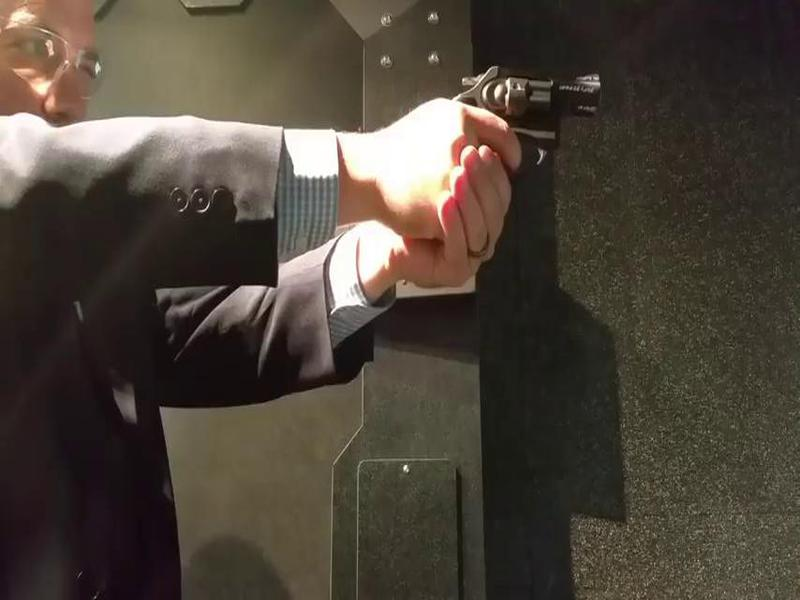Revolver: (446, 36, 617, 223)
